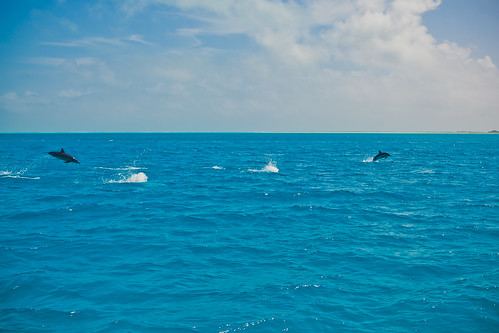animal: (44, 149, 79, 165), (362, 148, 397, 164)
sea: (1, 132, 499, 333)
sky: (2, 1, 499, 130)
